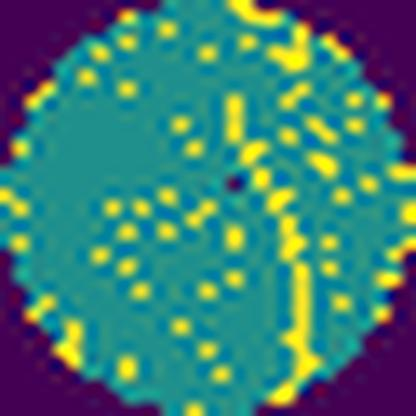Scratch: (227, 91, 324, 409)
